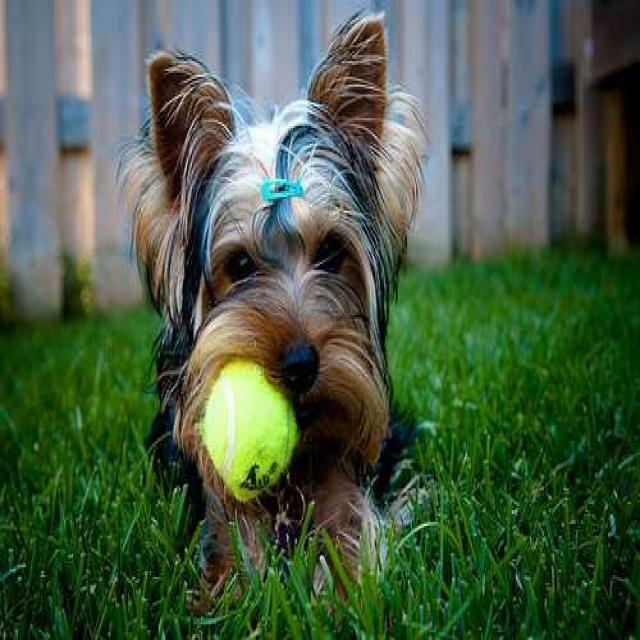Tennis_Ball: (208, 359, 295, 494)
